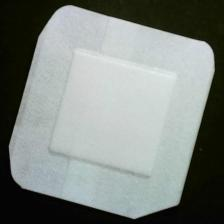Cut: (9, 6, 217, 221)
